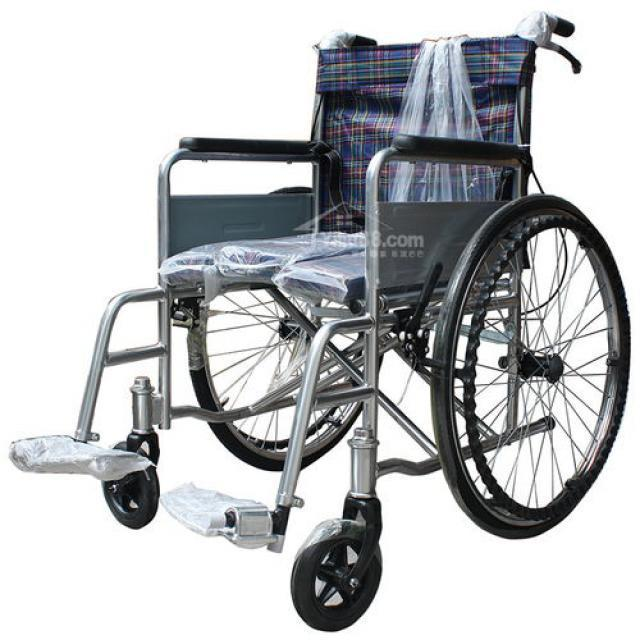wheelchairs: (18, 16, 627, 639)
